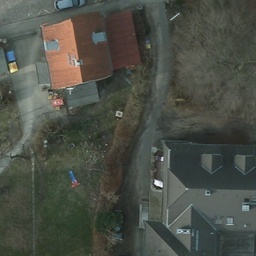car: (106, 209, 128, 245), (55, 0, 84, 13), (99, 0, 129, 3)
